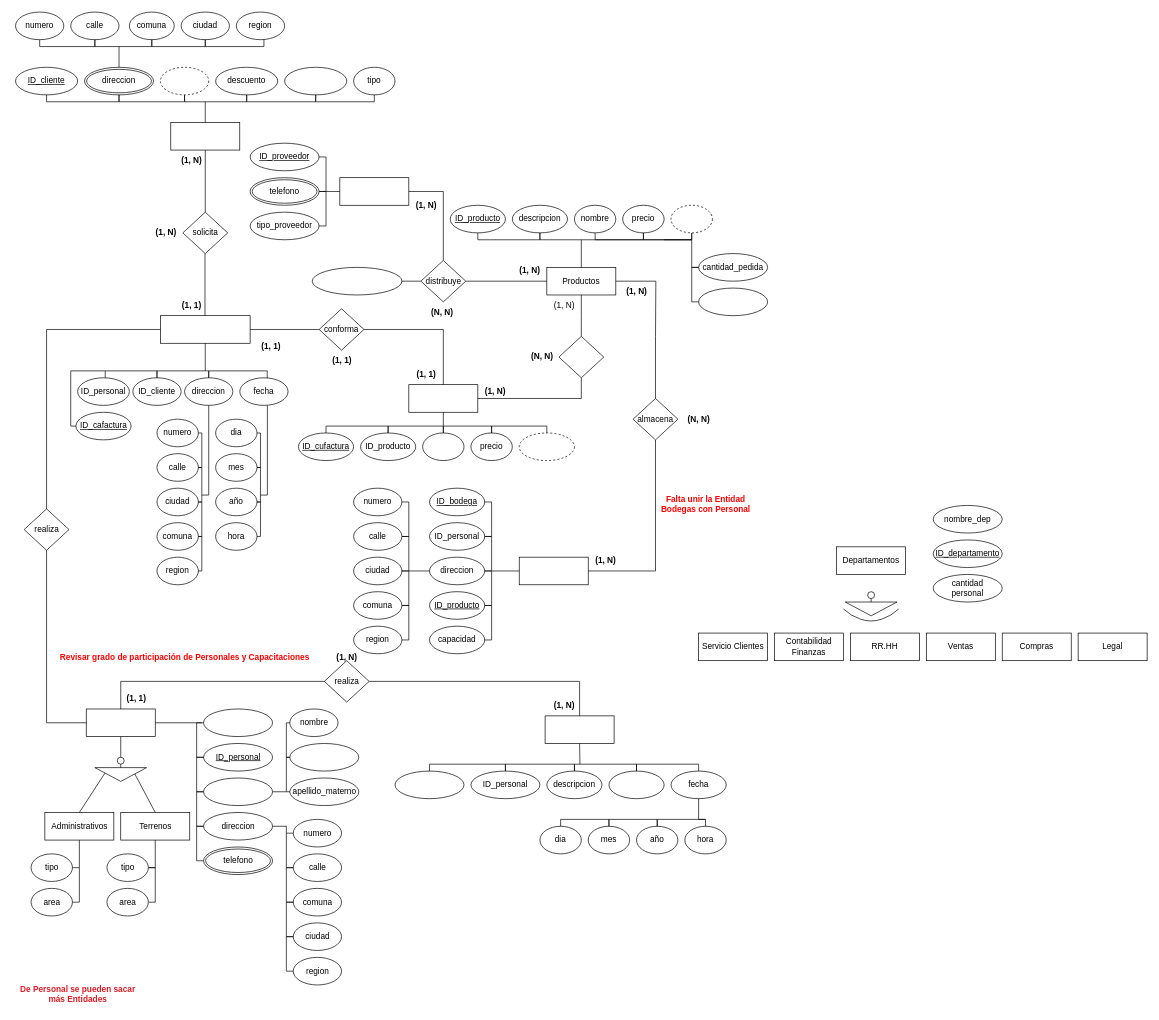
The diagram is 1159 pixels wide and 1020 high, and some of its shapes have lost their labels. The shapes that lost their labels are listed below. From the top down, each one's centre as x and y in pixels, then its label:
[184,81]: saldo
[315,81]: limite_credito
[205,136]: Clientes
[374,191]: Proveedores
[691,219]: stock
[357,281]: cantidad_productos
[733,301]: cantidad_total
[205,329]: Cabecera_Facturas
[581,357]: contener
[443,398]: Cuerpo_Facturas
[443,446]: cantidad
[546,446]: precio_total
[553,570]: Bodegas
[120,722]: Personales
[238,722]: nacionalidad
[579,729]: Capacitaciones
[324,757]: apellido_paterno
[238,791]: nombre_com
[429,784]: ID_capacitacion
[636,784]: duracion
